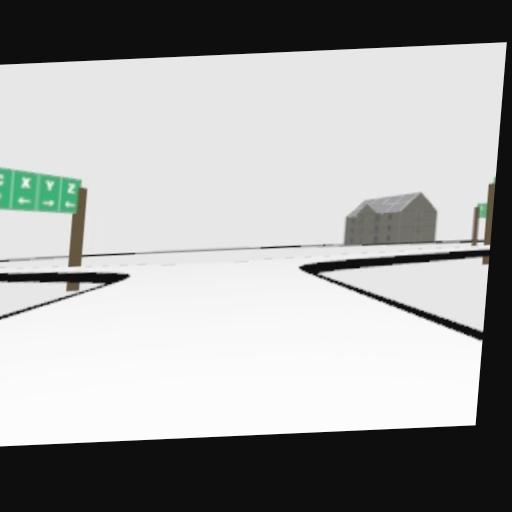C: (0, 172, 6, 185)
Left: (18, 195, 33, 203), (63, 200, 77, 208)
Right: (42, 196, 57, 206)
Straight: (0, 190, 4, 203)
X: (20, 175, 32, 187)
Y: (43, 176, 57, 190)
Z: (66, 180, 77, 194)
